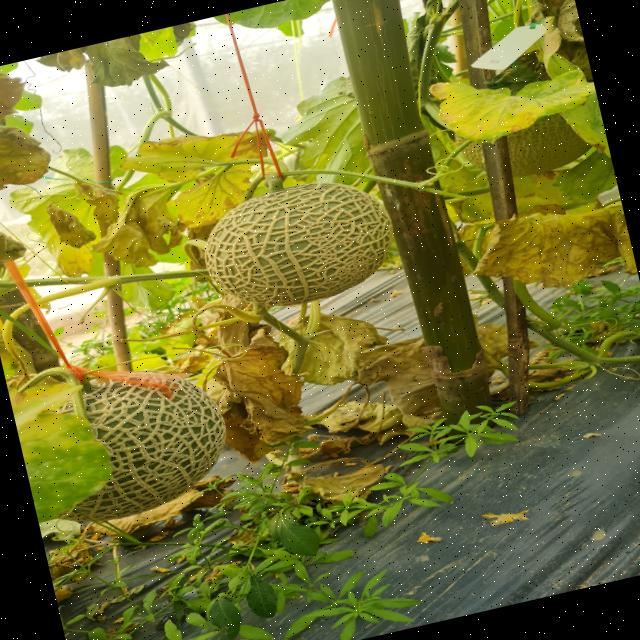melon: (203, 182, 392, 306), (66, 379, 226, 521)
